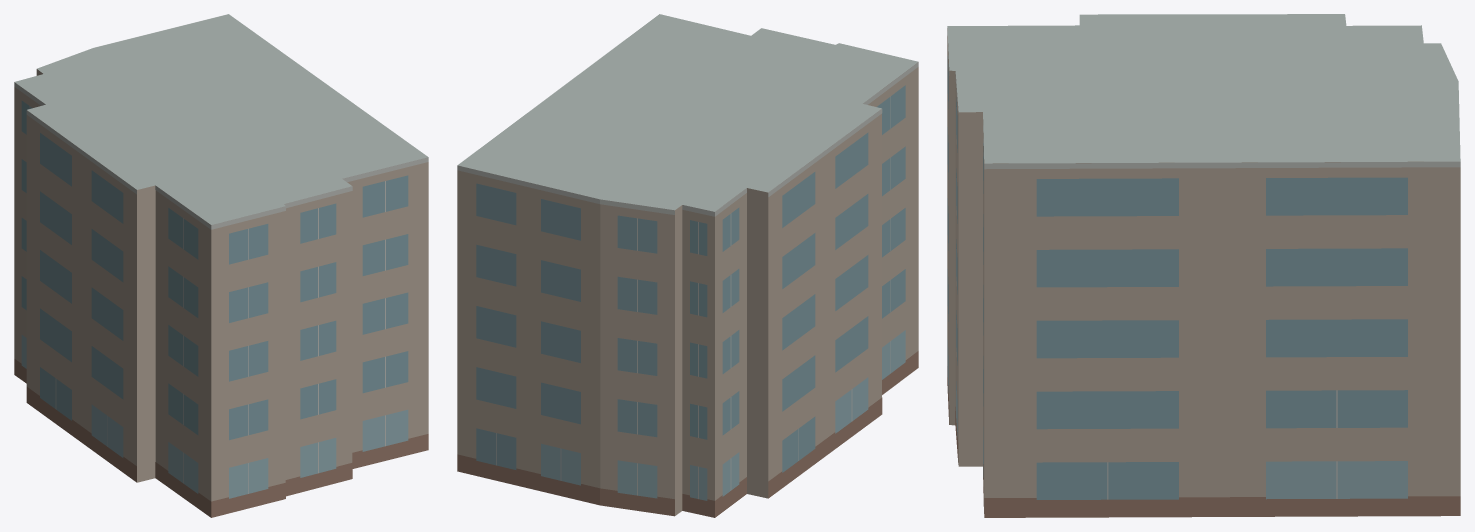
File: survey-upis-32680826.glb
3 renders of one model, left to right at view 1: azimuth 30°, elevation 25°; view 2: azimuth 150°, elevation 25°; view 3: azimuth 270°, elevation 25°, orthographic. The views are drawn at different scales.
Visible parts, largest first — view 1: survey-upis-32680826.tmp; view 2: survey-upis-32680826.tmp; view 3: survey-upis-32680826.tmp.
Part boxes in pixels (x1,y1,x2,y2): survey-upis-32680826.tmp: (14,14,428,517); survey-upis-32680826.tmp: (457,14,918,517); survey-upis-32680826.tmp: (947,14,1460,517).
Bounding box in the file's own units: 13.8 × 15.25 × 20.02.
